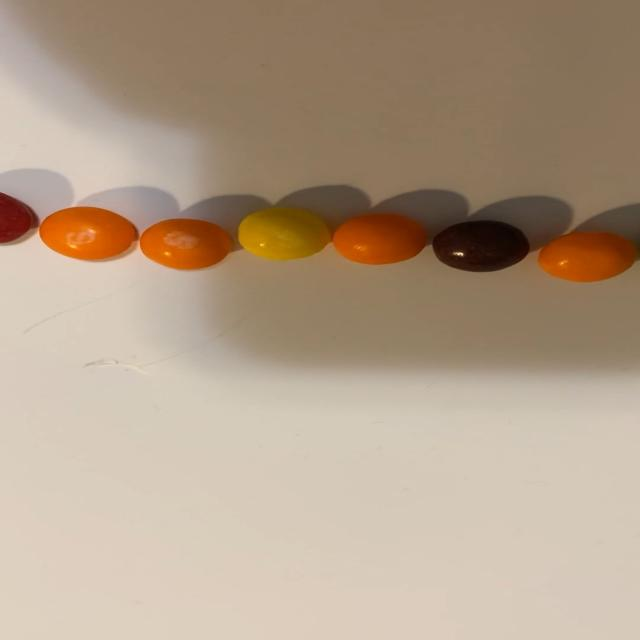smartie: (39, 206, 135, 260), (433, 220, 530, 272), (539, 231, 637, 282), (238, 207, 330, 260), (333, 213, 427, 264), (139, 219, 230, 270)
